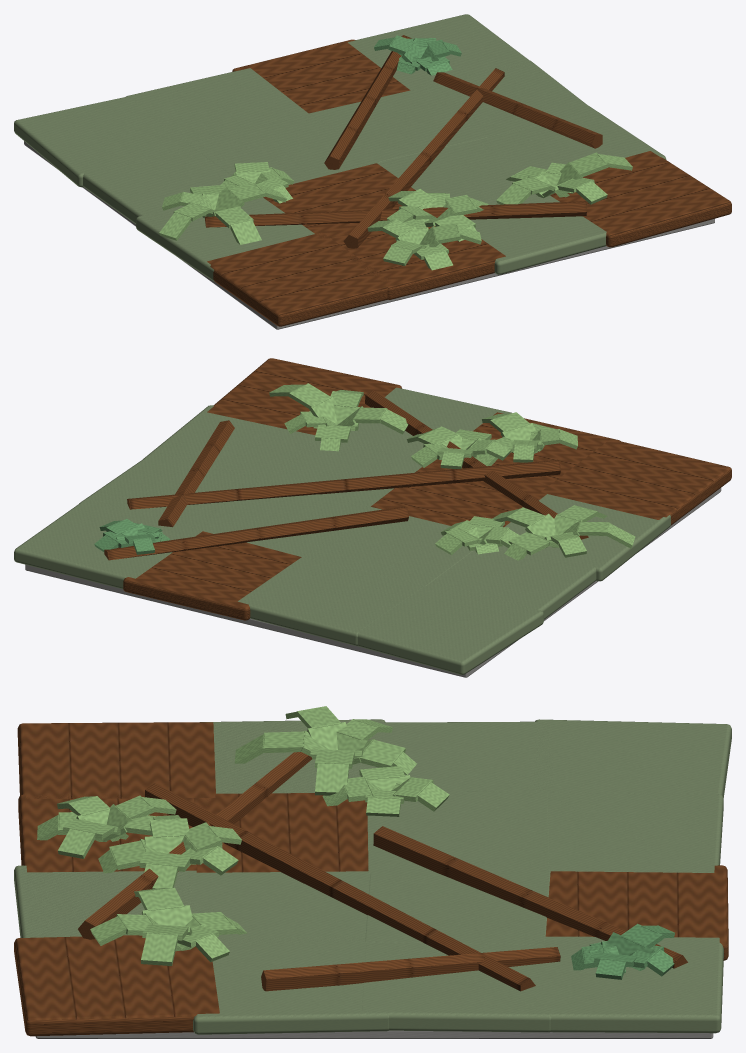
The model's file is jungle-temple-and-stone-city-jungle-floor-tile-d6b0a326__36112.glb.
3 views of the same model, one above another, from view 1: azimuth 30°, elevation 25°; view 2: azimuth 150°, elevation 25°; view 3: azimuth 270°, elevation 25° (orthographic). The views are drawn at different scales.
Parts seen in each view (by area): view 1: jungle-floor-tile; view 2: jungle-floor-tile; view 3: jungle-floor-tile.
Boxes of the visible parts, left/top/right/bottom form: jungle-floor-tile: left=14, top=14, right=731, bottom=329; jungle-floor-tile: left=14, top=358, right=731, bottom=677; jungle-floor-tile: left=14, top=706, right=731, bottom=1038.
Size of the model in its own units: 3.19 by 0.3057 by 3.18.
5 materials, 5 textured.
